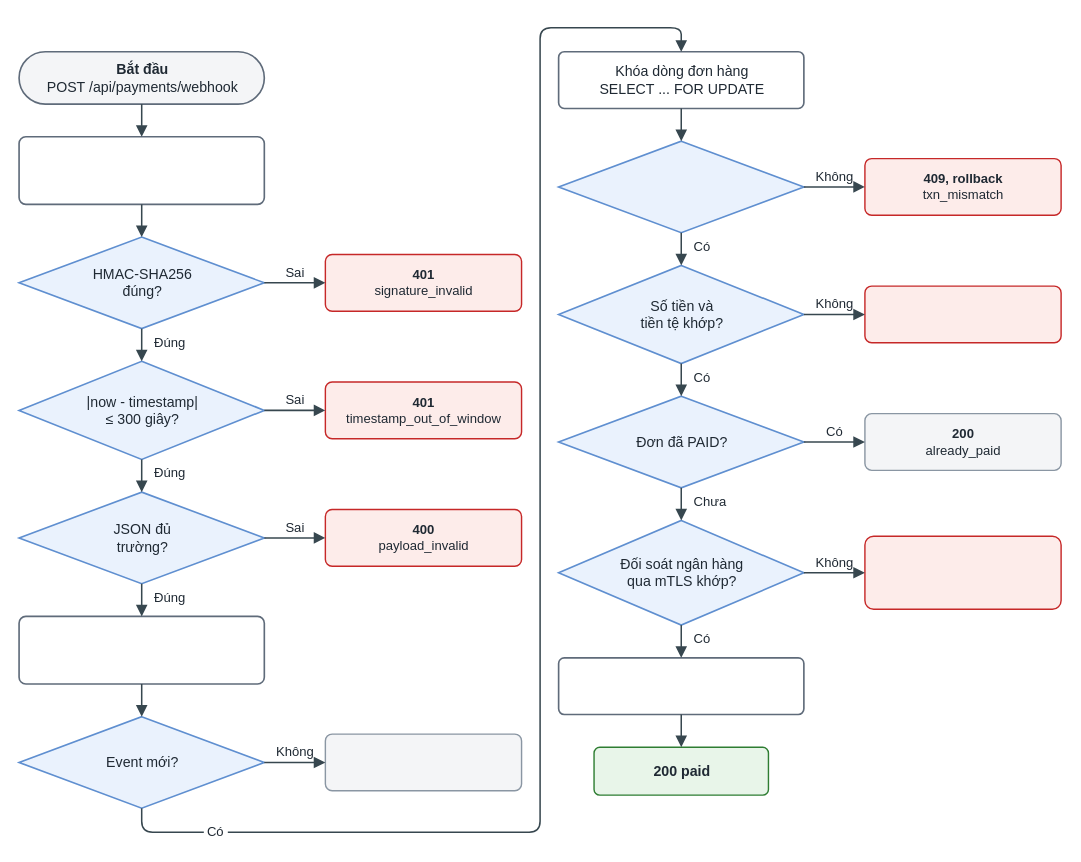
Image size: 1081x862. Some labels were removed from this diagram. Each missing label, with the box of its shape:
200 duplicate_event: (324, 733, 522, 791)
409 hoặc 502, rollback bank_mismatch bank_unreachable: (864, 535, 1061, 610)
409, rollback amount_mismatch: (864, 285, 1061, 343)
BEGIN transaction INSERT event_id ON CONFLICT DO NOTHING: (18, 615, 265, 684)
Cập nhật PAID + audit log COMMIT: (557, 657, 804, 715)
txn_id khớp đơn?: (557, 140, 804, 233)
Đọc raw body, X-GS-Timestamp, X-GS-Signature: (18, 135, 265, 205)
